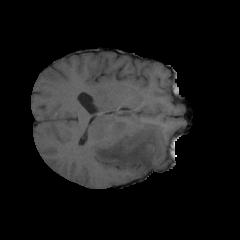glioma: (81, 115, 167, 176)
